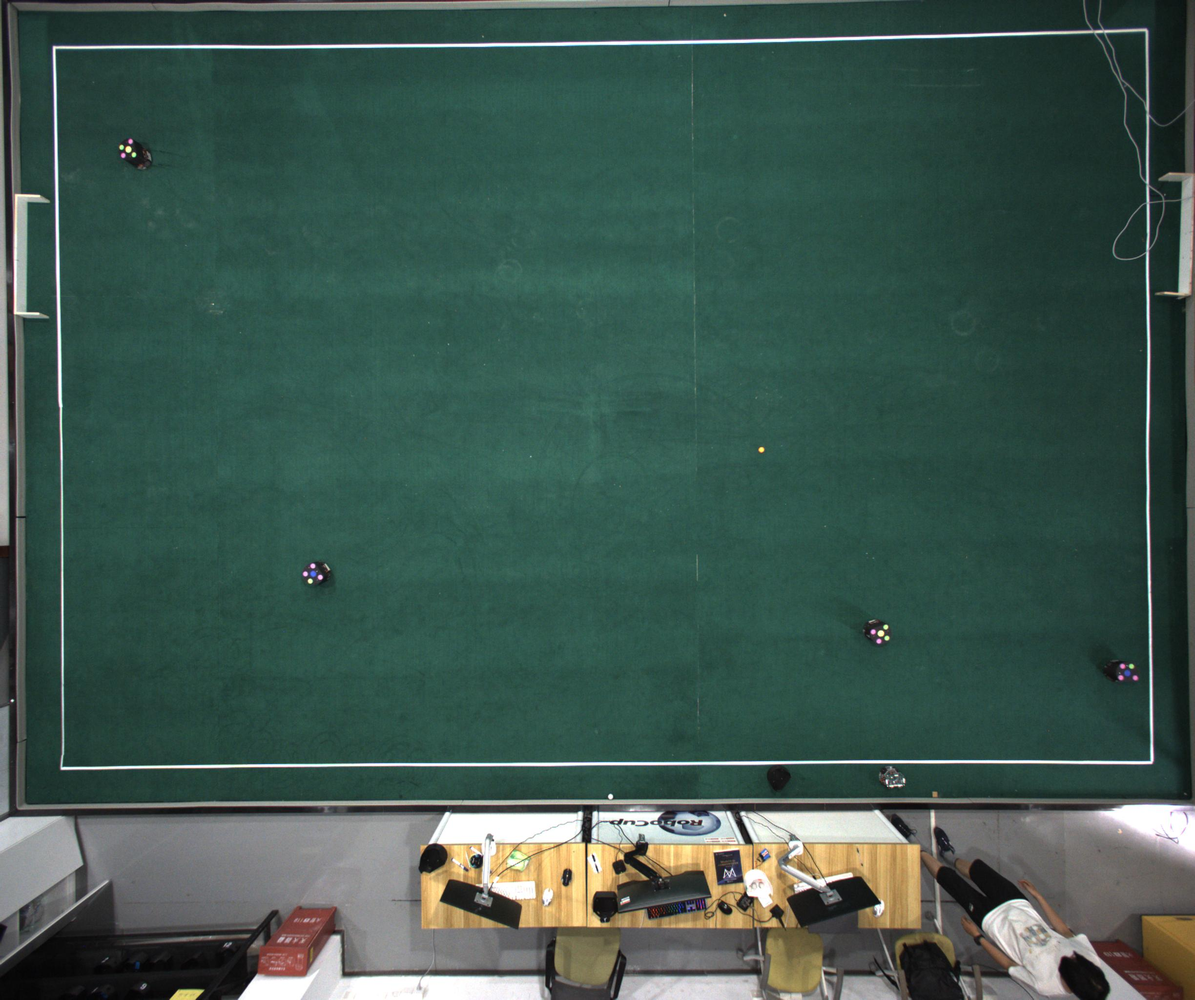ball: (758, 447, 765, 453)
blue_bot: (302, 562, 324, 586), (1116, 662, 1139, 681)
yellow_bot: (118, 138, 138, 161), (869, 625, 891, 645)
